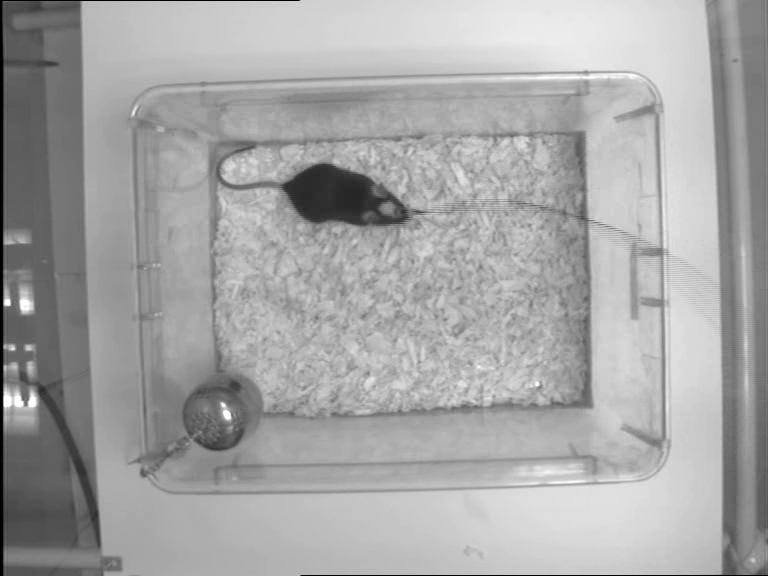mice: (216, 143, 416, 227)
